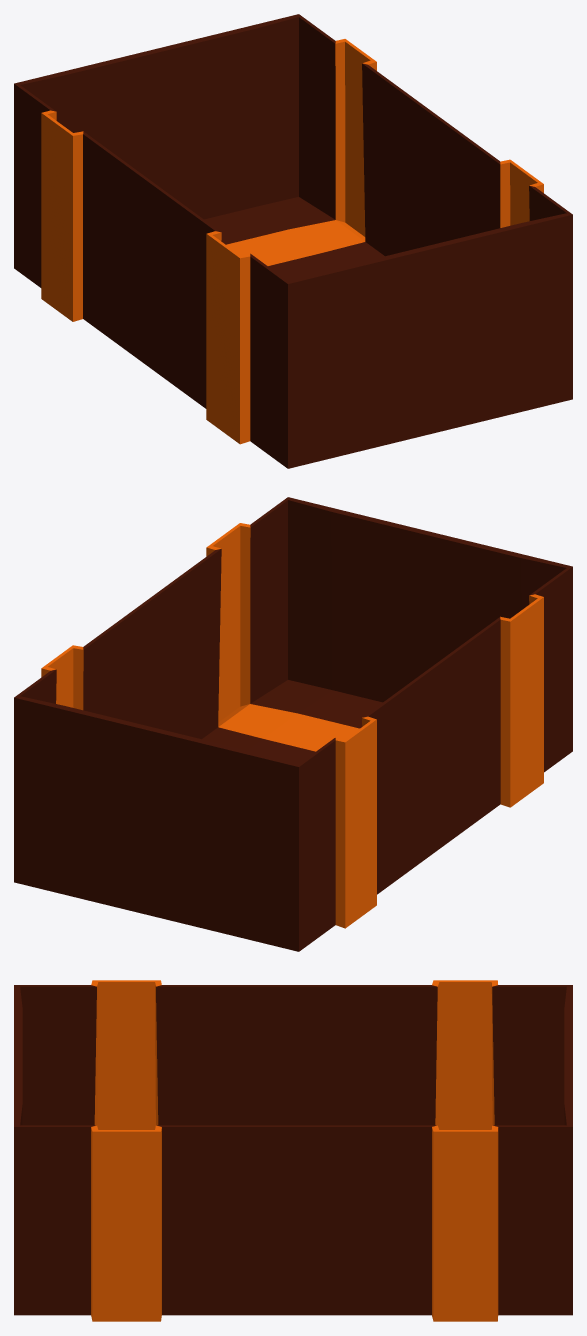
File: SM_Chest2.FBX
3 renders of one model, top to bottom at view 1: azimuth 30°, elevation 25°; view 2: azimuth 150°, elevation 25°; view 3: azimuth 270°, elevation 25°, orthographic. The views are drawn at different scales.
Visible parts, largest first — view 1: SM_Chest2; view 2: SM_Chest2; view 3: SM_Chest2.
Part boxes in pixels (left/top/right/bottom): SM_Chest2: left=14, top=14, right=572, bottom=468; SM_Chest2: left=14, top=497, right=572, bottom=951; SM_Chest2: left=14, top=980, right=572, bottom=1321.
Size of what is drawn, in the model's own units: 128 by 200 by 74.96.
